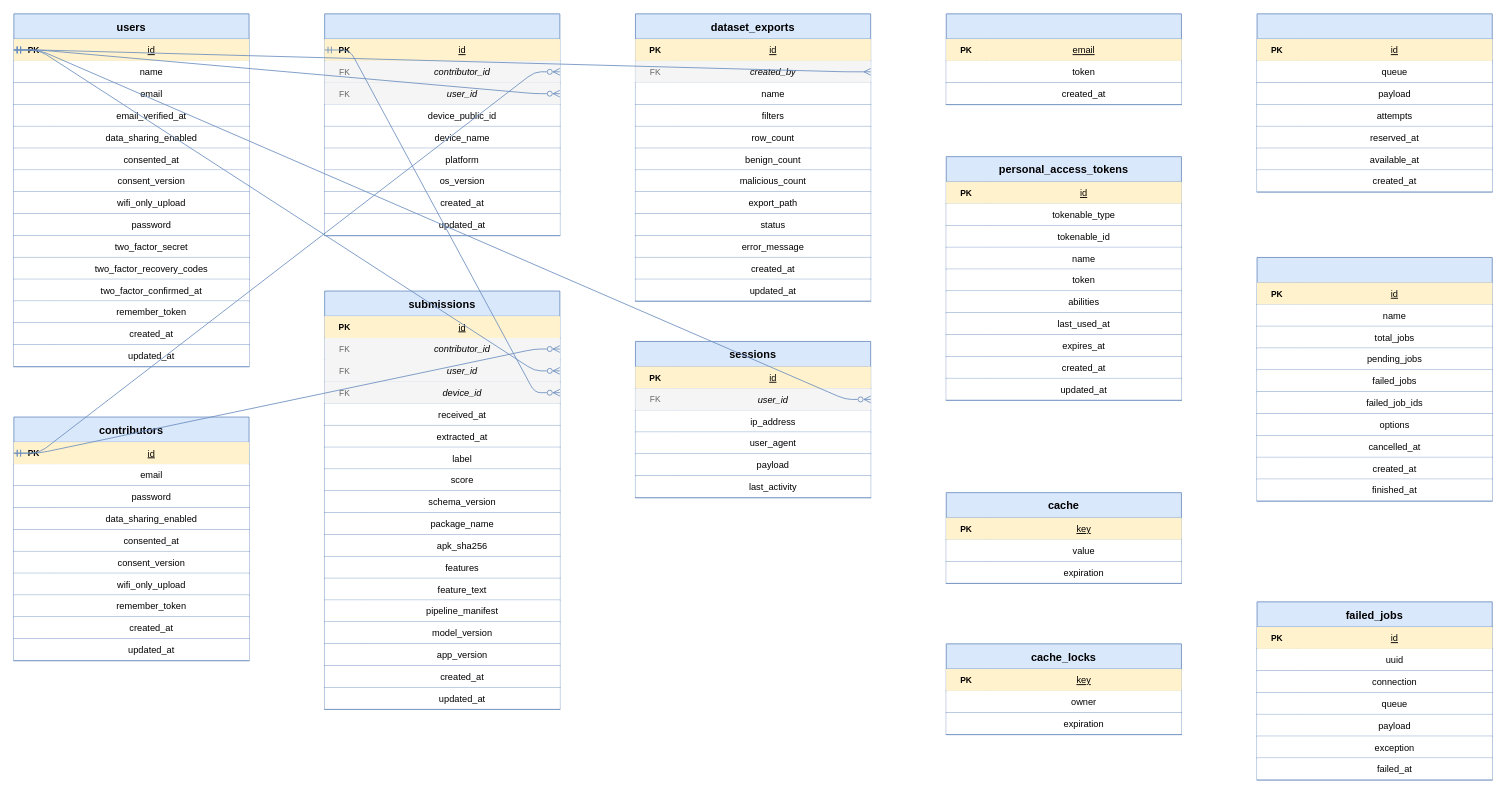
Image size: 1506x794. Some labels were removed from this diagram. Each missing label, with the box of its shape:
devices: (324, 13, 560, 236)
job_batches: (1256, 257, 1492, 501)
jobs: (1256, 13, 1492, 192)
password_reset_tokens: (945, 13, 1181, 105)
